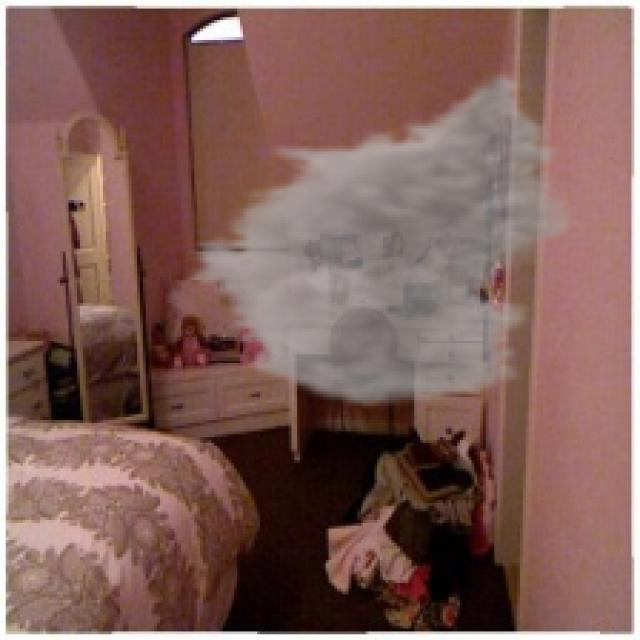Smoke: (180, 69, 586, 412)
